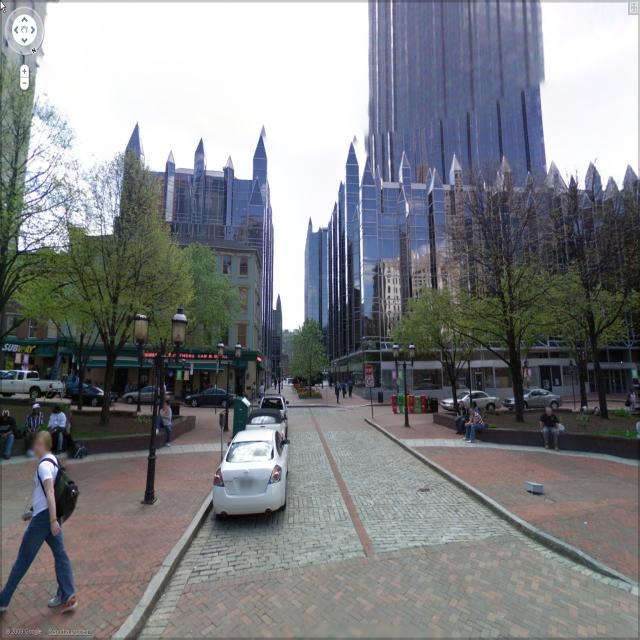b_1: (364, 1, 554, 168), (304, 171, 370, 375)
b_2: (372, 172, 636, 424), (102, 152, 272, 415), (0, 225, 70, 399), (65, 224, 129, 386), (1, 11, 40, 250)
